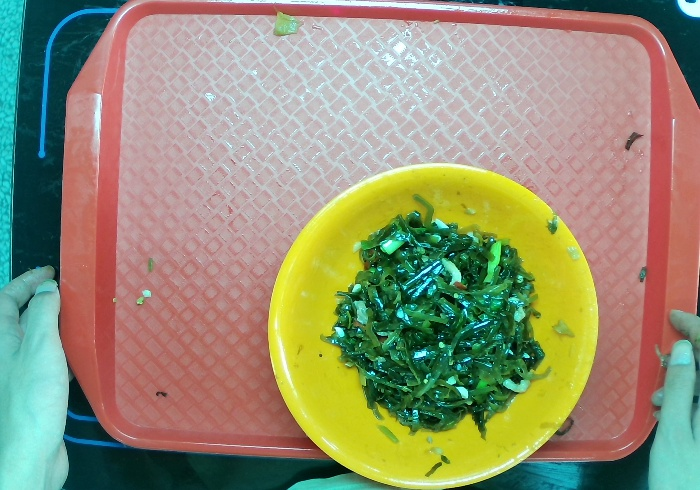YKMZ-Ju_Se_Tang_Wan: (265, 162, 600, 490)
